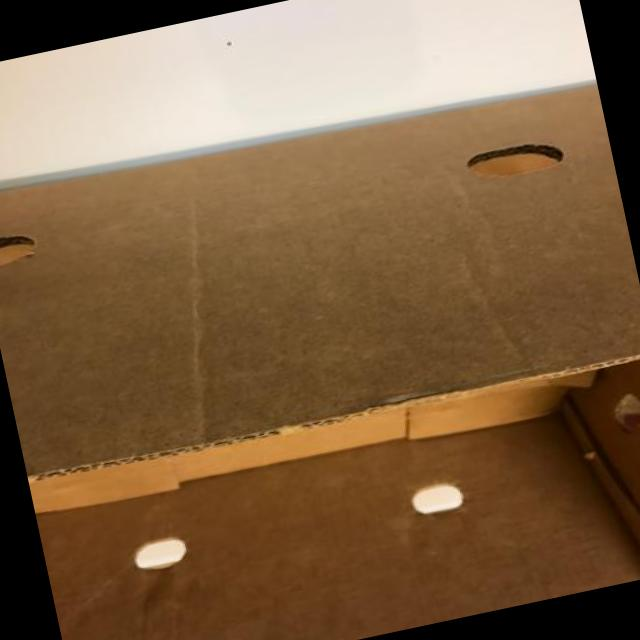cardboard: (0, 86, 639, 639), (0, 86, 639, 473), (37, 414, 639, 639)
